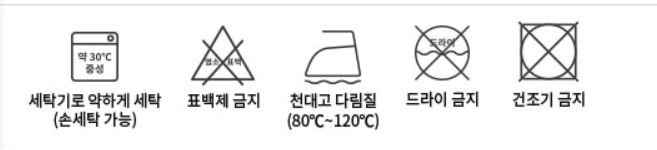KR_no_chlorine_bleach: (189, 22, 261, 86)
KR_no_dry_clean: (409, 21, 475, 84)
KR_no_tumble_dry: (511, 15, 585, 88)
KR_wash_warm_30_neutral: (64, 25, 129, 89)
